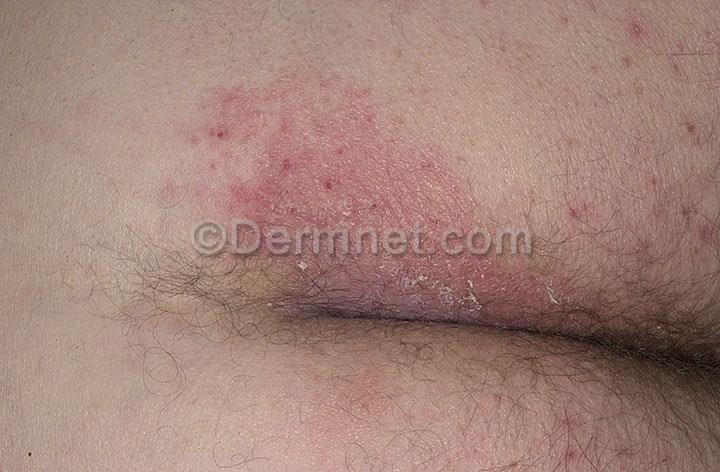Eczema: (195, 49, 388, 212), (393, 260, 529, 370), (559, 0, 676, 107), (643, 98, 720, 258), (516, 383, 652, 472), (294, 283, 401, 394), (382, 132, 475, 218), (539, 155, 634, 230)
